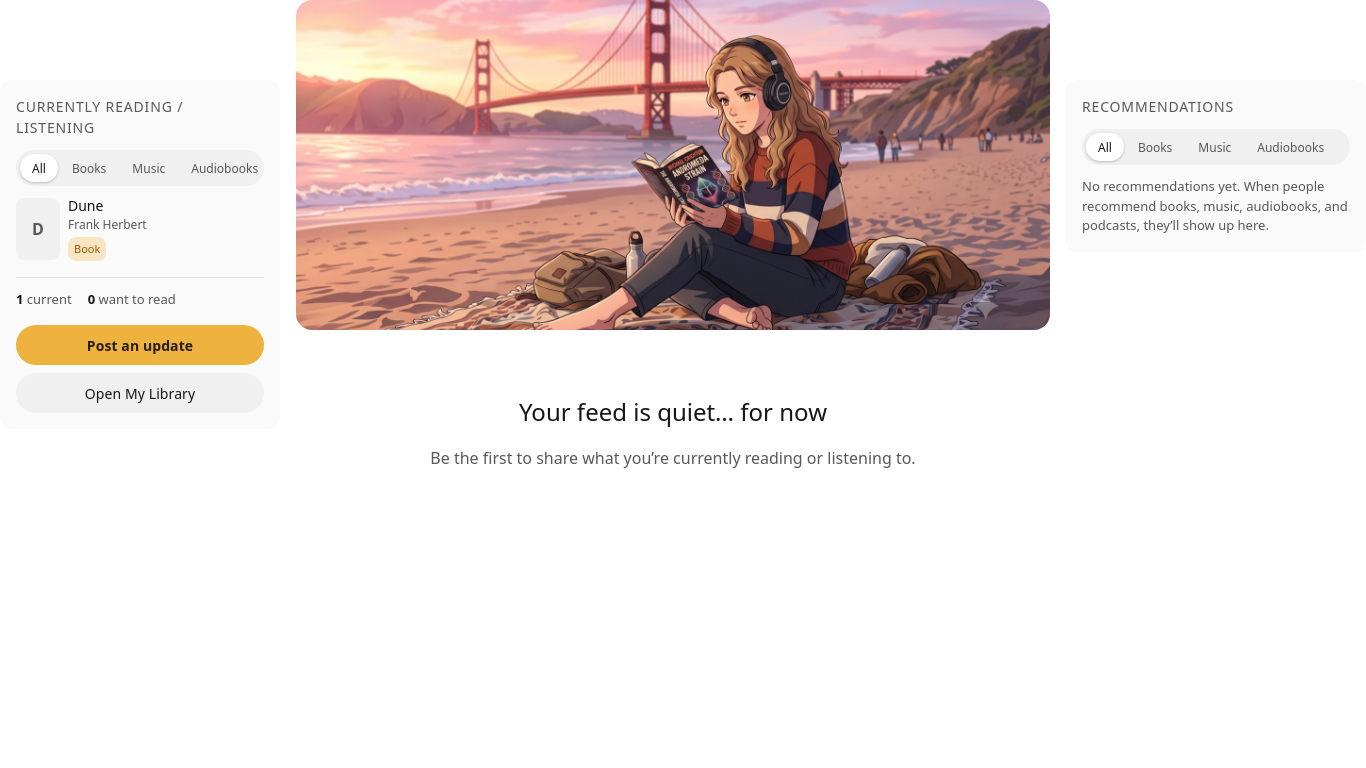
Test case: HomeFeed (three-column home) › opens the compose overlay when "Post an update" is clicked
Click the button "Post an update".
click(140, 345)  # box [16,325,264,365]
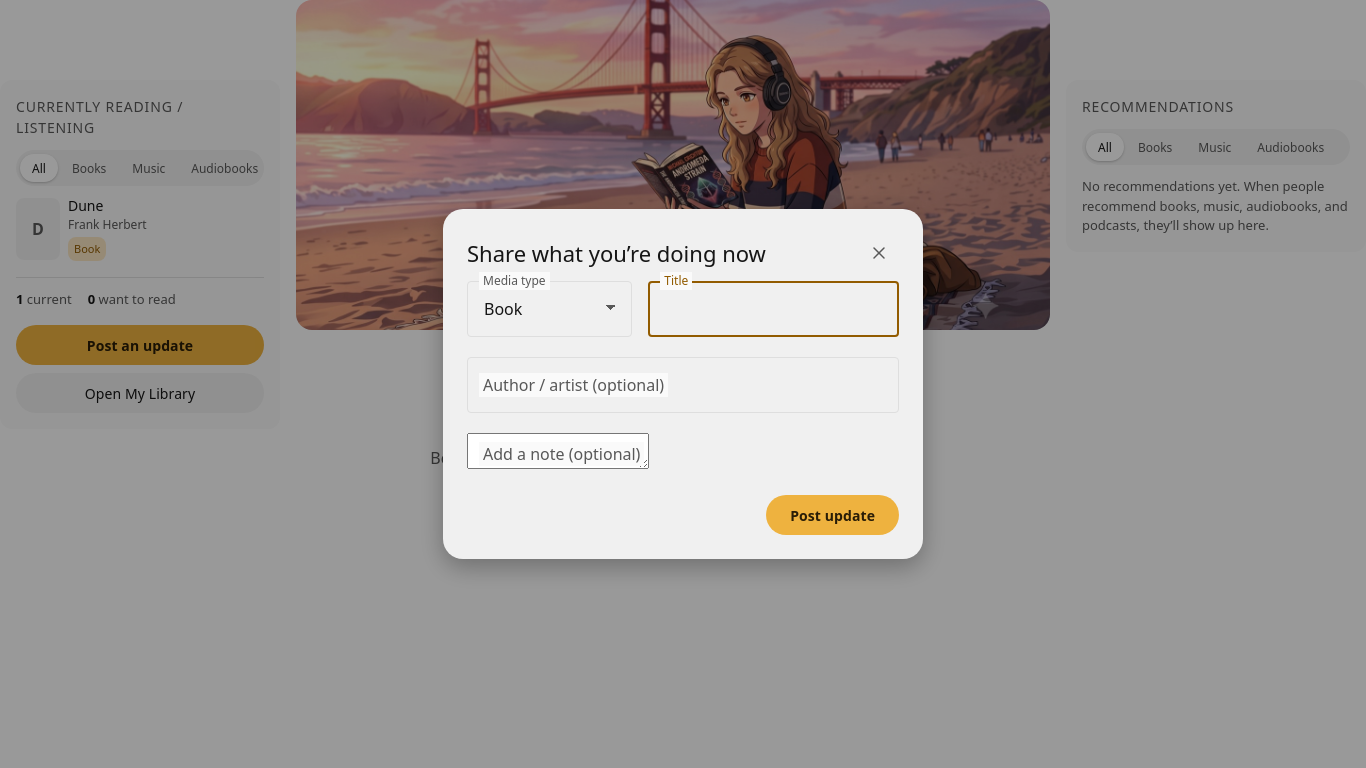
Expected: the dialog "Share what you’re doing now" is shown, [443,209,923,559]
Expected: the field named "Title" is shown, [648,281,899,337]
